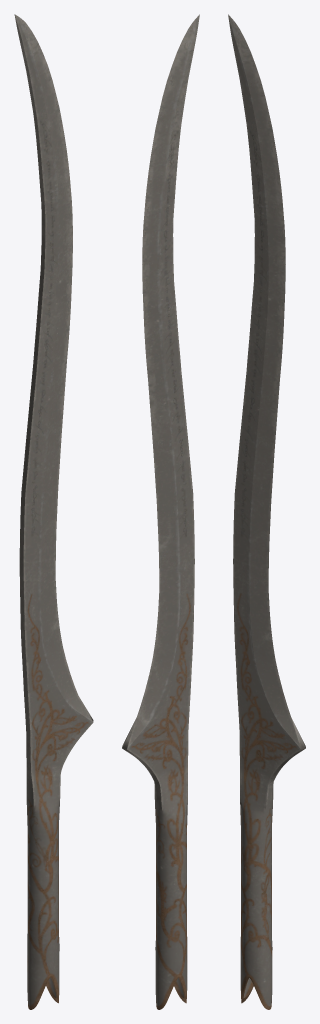
Rendered from wm_elven_spear_blade.fbx.
3 renders of one model, left to right at view 1: azimuth 30°, elevation 25°; view 2: azimuth 210°, elevation 25°; view 3: azimuth 330°, elevation 25°, orthographic.
Visible parts, largest first — view 1: wm_elven_spear_blade; view 2: wm_elven_spear_blade; view 3: wm_elven_spear_blade.
Boxes of the visible parts, x1,y1,x2,y2 form: wm_elven_spear_blade: (14,14,93,1009); wm_elven_spear_blade: (122,14,199,1009); wm_elven_spear_blade: (228,14,305,1009).
Bounding box in the file's own units: 0.0915 × 0.0313 × 1.11.
1 material, 1 textured.
